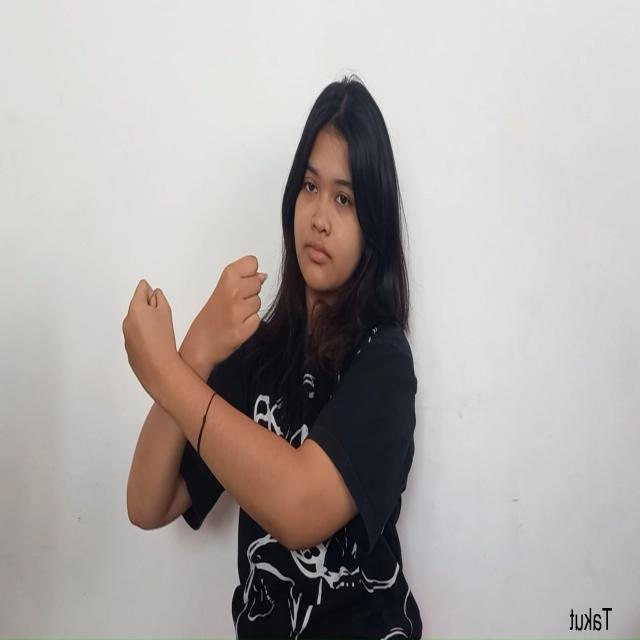Takut -BISINDO-: (122, 252, 268, 459)
